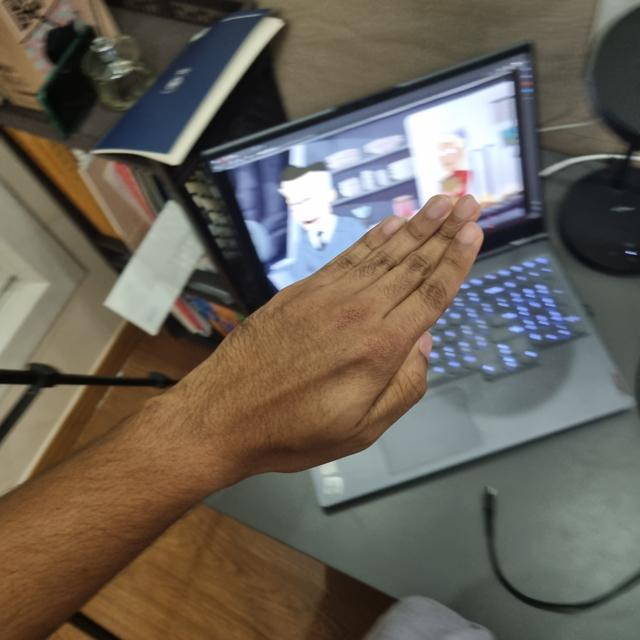Paper: (205, 187, 477, 471)
